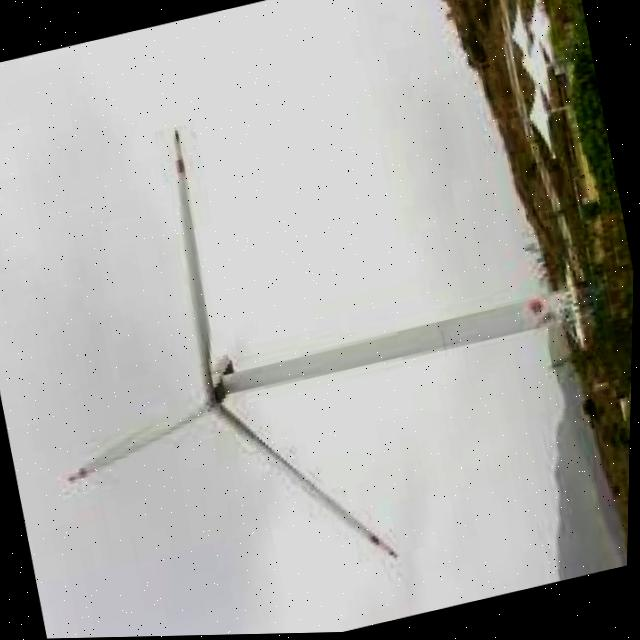solid-blade: (215, 402, 400, 559), (175, 131, 214, 388)
